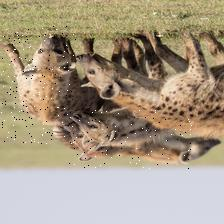hyena: (75, 0, 224, 151), (0, 25, 75, 144), (69, 110, 192, 169)
